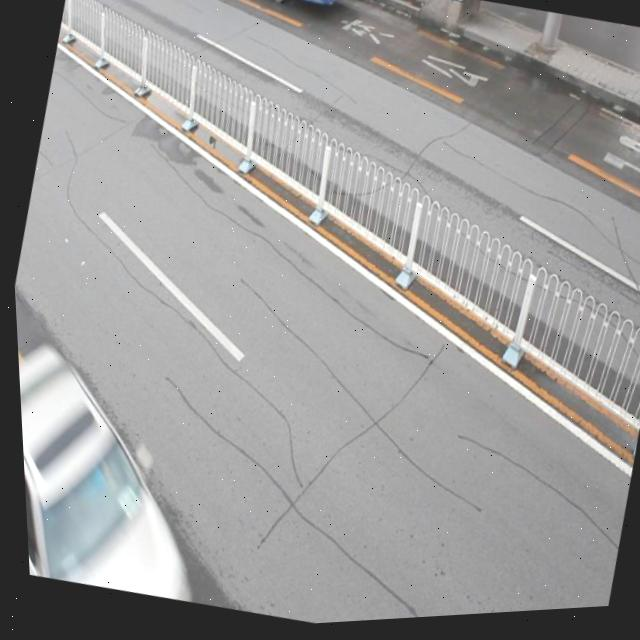car: (14, 329, 222, 608)
van: (127, 0, 363, 27)
